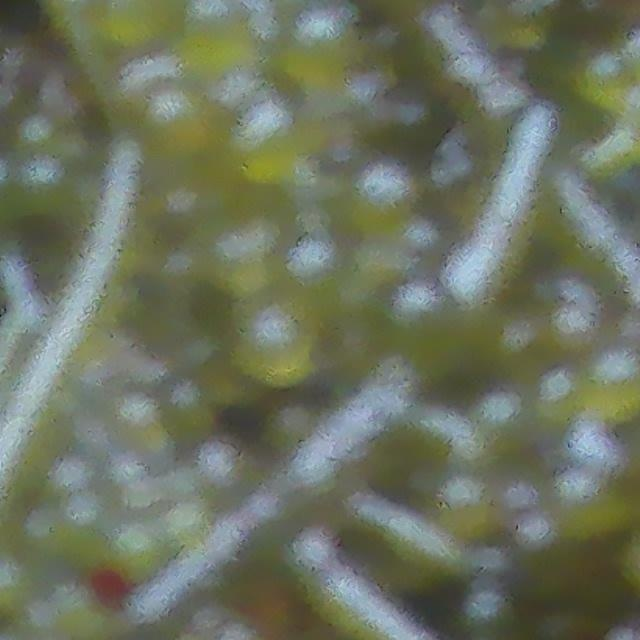SeaGrape: (232, 299, 321, 380), (148, 85, 223, 166), (248, 103, 323, 182), (402, 296, 469, 363), (106, 519, 171, 585), (558, 463, 618, 530), (374, 147, 421, 223), (581, 356, 640, 415)
